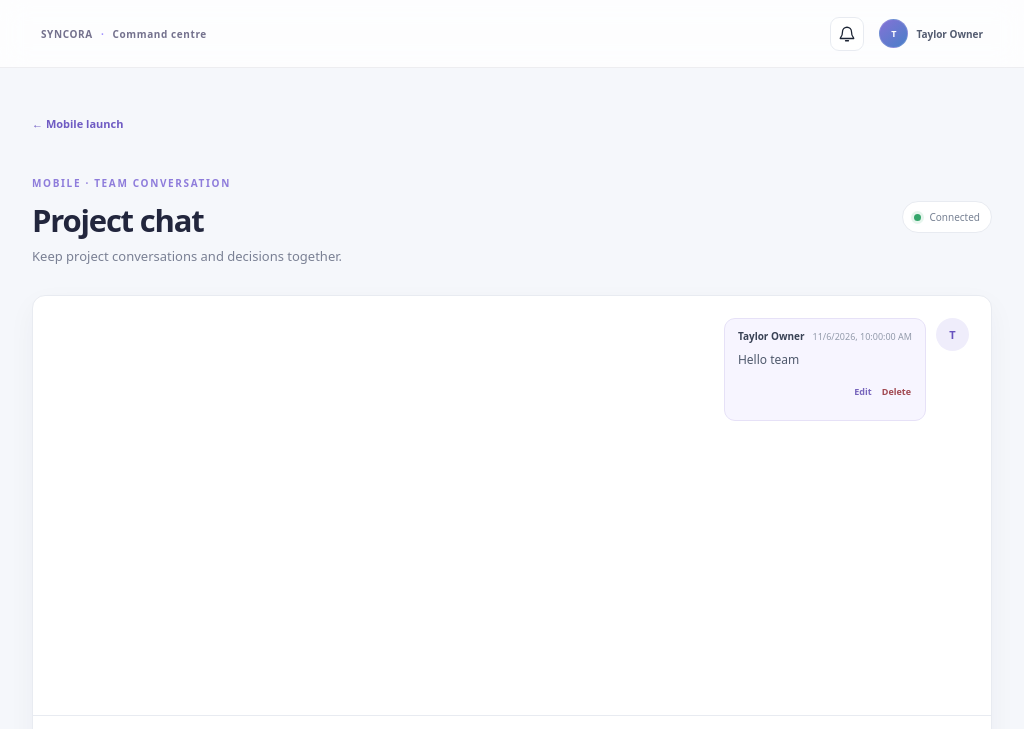
Test case: project chat page › edits and deletes own messages
expect the text "Hello team" is shown: met, box top-left (738, 351), bottom-right (799, 368)
Click the button "Edit": point(863, 392) top-left (853, 374), bottom-right (873, 410)
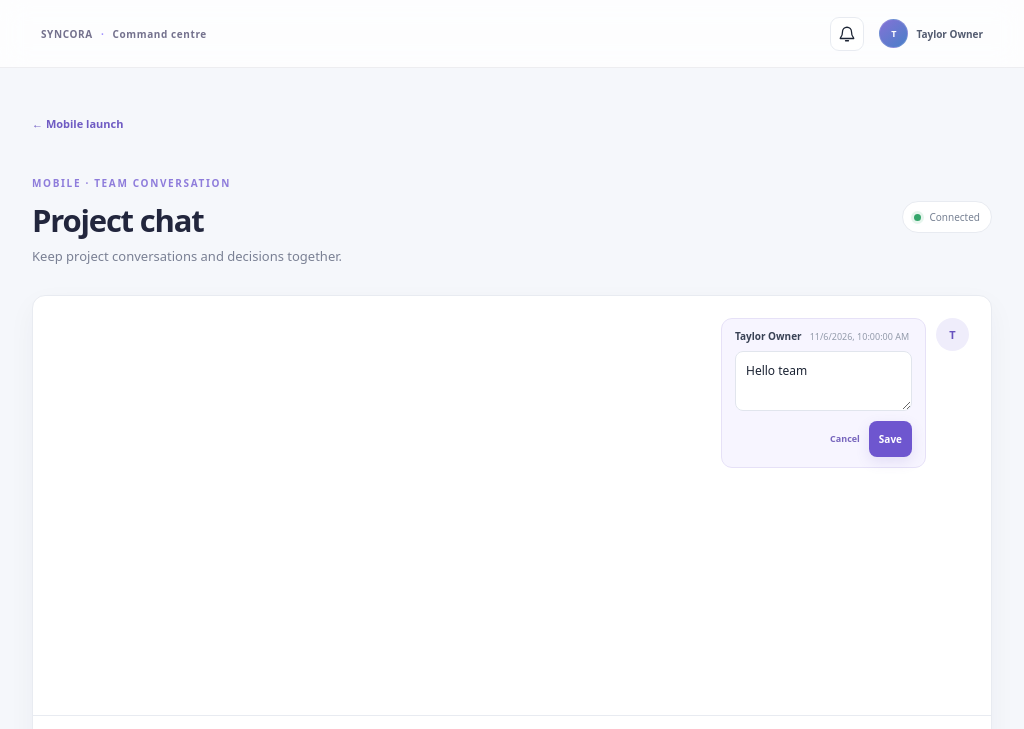
Replace the text in the text box named "Edit message" with "Updated hello": point(824, 381) top-left (735, 351), bottom-right (912, 411)
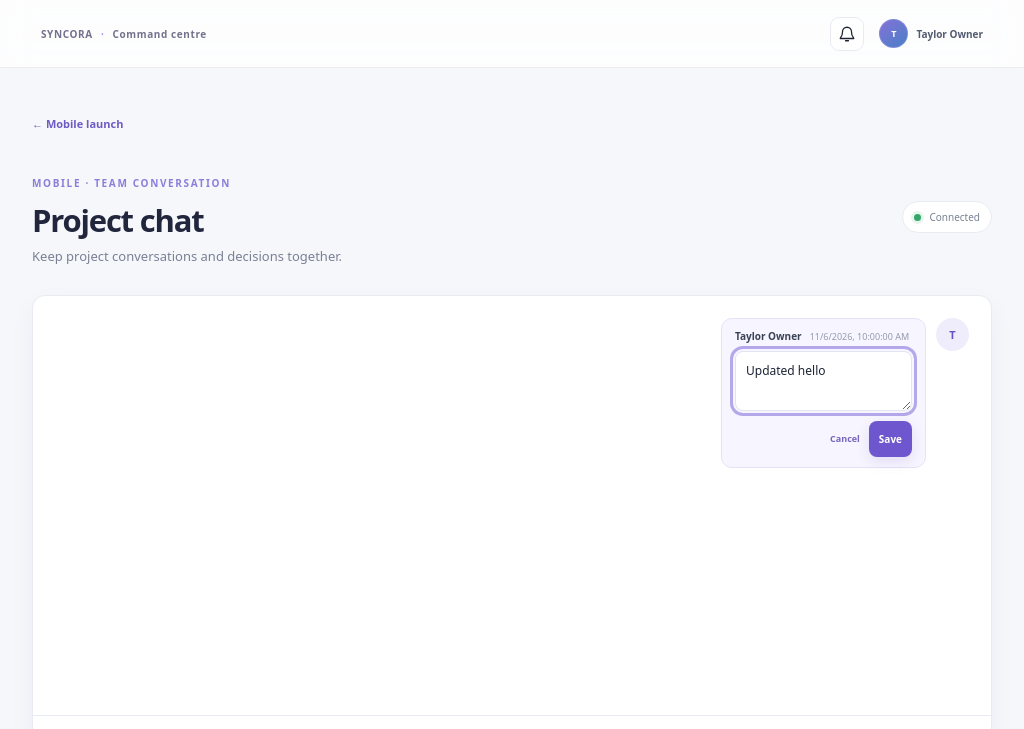
Click the button "Save": point(890, 439) top-left (869, 421), bottom-right (912, 457)
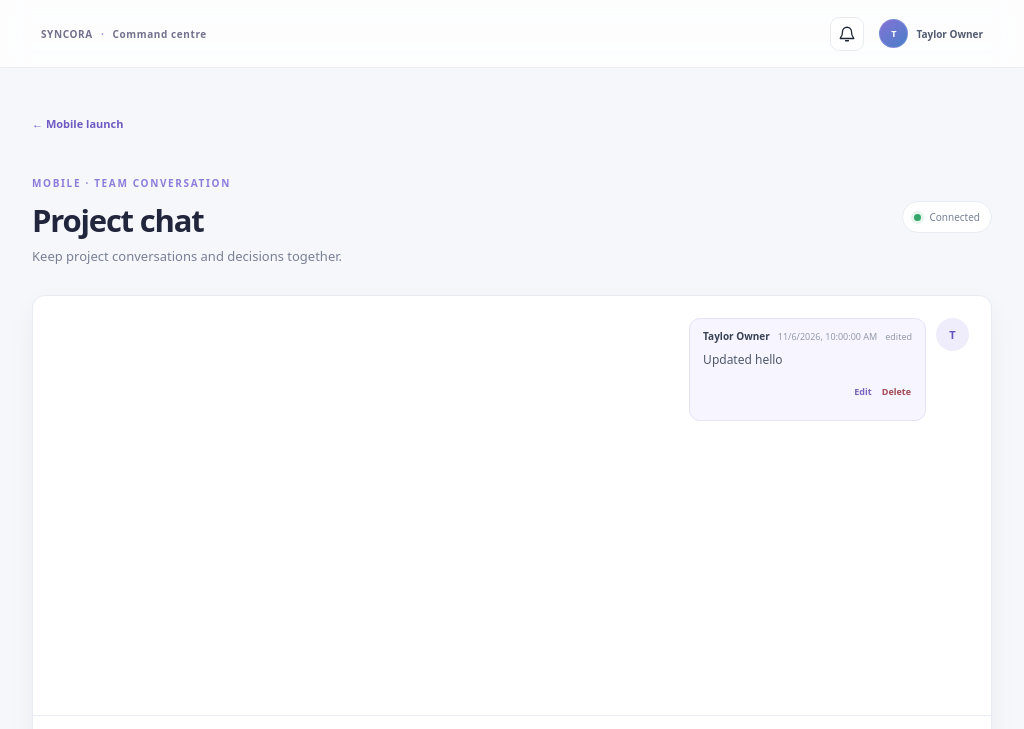
expect the text "Updated hello" is shown: met, box top-left (703, 351), bottom-right (783, 368)
Click the button "Delete": point(896, 392) top-left (881, 374), bottom-right (912, 410)
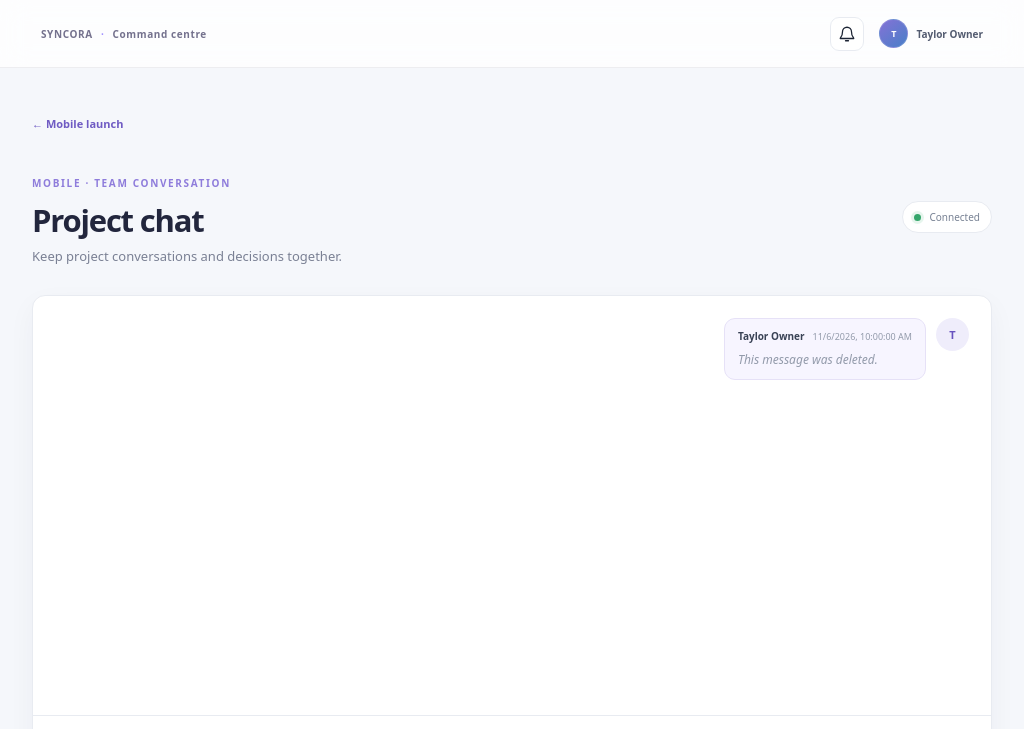
expect the text "This message was deleted." is shown: met, box top-left (738, 351), bottom-right (878, 368)
